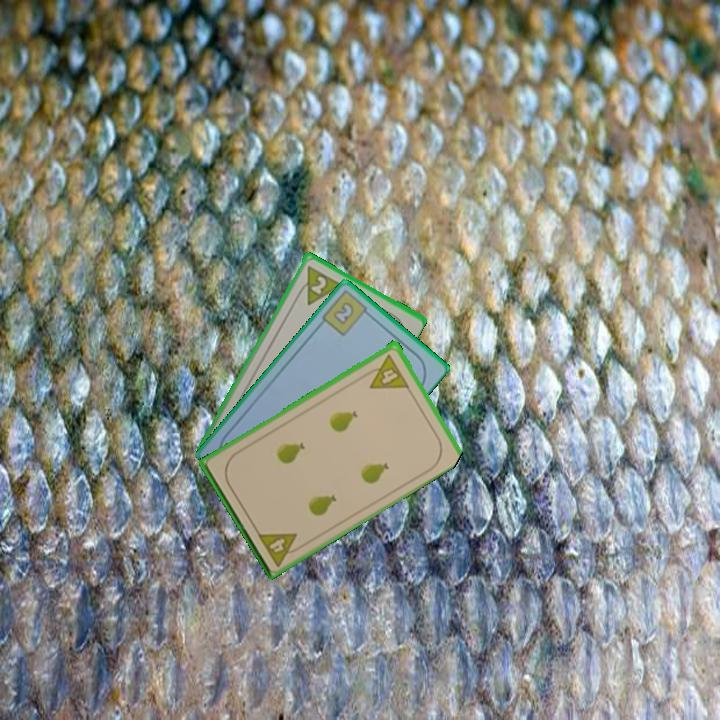2b: (318, 287, 375, 339)
2p: (292, 261, 343, 308)
4p: (360, 350, 411, 392), (254, 529, 307, 569)
